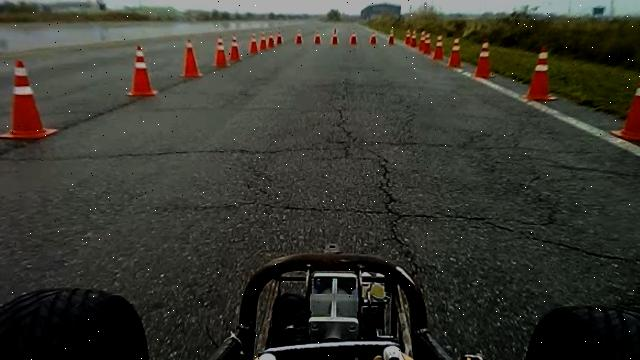red cone: (0, 59, 59, 140), (610, 59, 640, 142), (525, 45, 558, 101), (126, 44, 157, 97), (180, 39, 202, 78), (475, 40, 496, 78), (214, 36, 230, 68), (447, 37, 462, 69), (230, 34, 242, 62), (432, 34, 444, 60), (249, 32, 259, 54), (422, 34, 432, 54)
